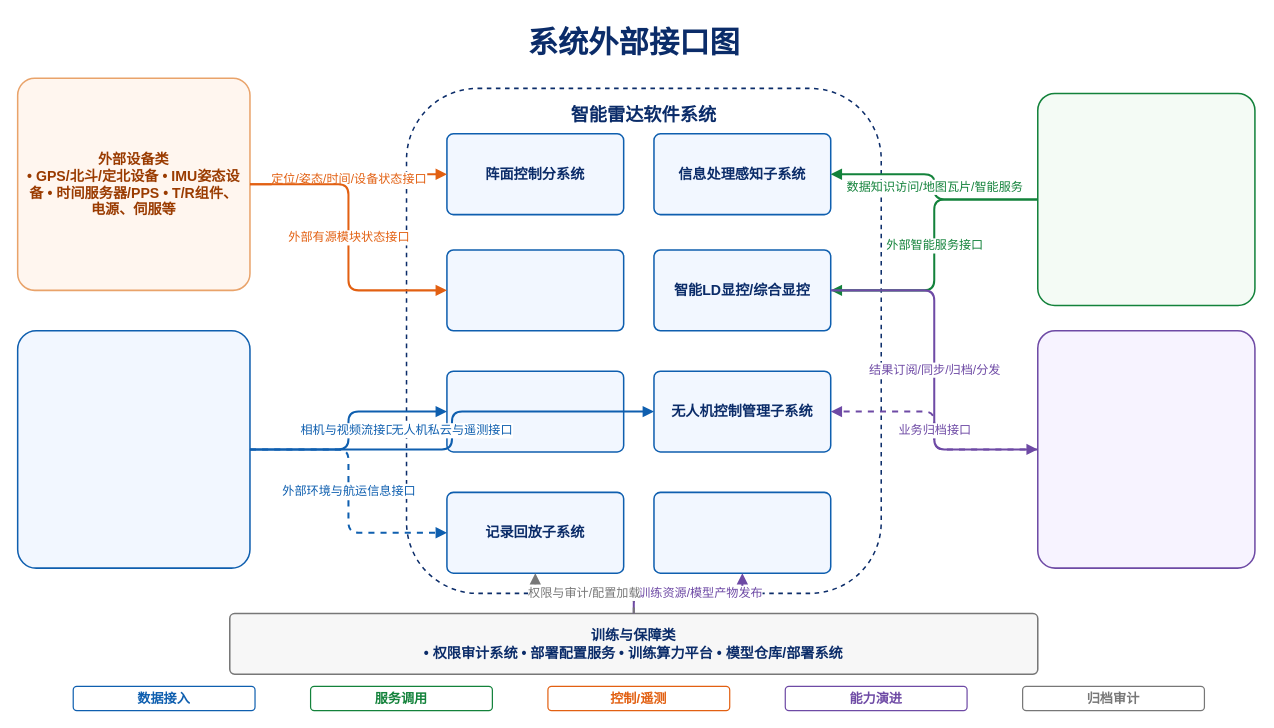
Image size: 1274x728. Some labels were removed from this diagram. The box of each missing label's shape, as (x1, y1, x2, y2) in pixels:
LD智能体子系统: (446, 249, 624, 331)
业务与归档类 • 上层业务/指挥控制系统 • 第三方同步系统 • 外部归档系统 • 外部分发消费端: (1037, 330, 1255, 568)
外部数据类 • 外部LD数据源 • 光电/无线电/第三方增强 • 相机/云台/流媒体 • 无人机私云/机场设备 • 气象/船舶/AIS/ADS-B: (16, 330, 250, 568)
外部服务类 • 数据知识底座 • 地图/瓦片服务 • ASR/TTS/VLM/大模型服务: (1037, 92, 1255, 306)
相机控制管理子系统: (446, 370, 624, 452)
能力生成演进工具链: (653, 491, 831, 573)
